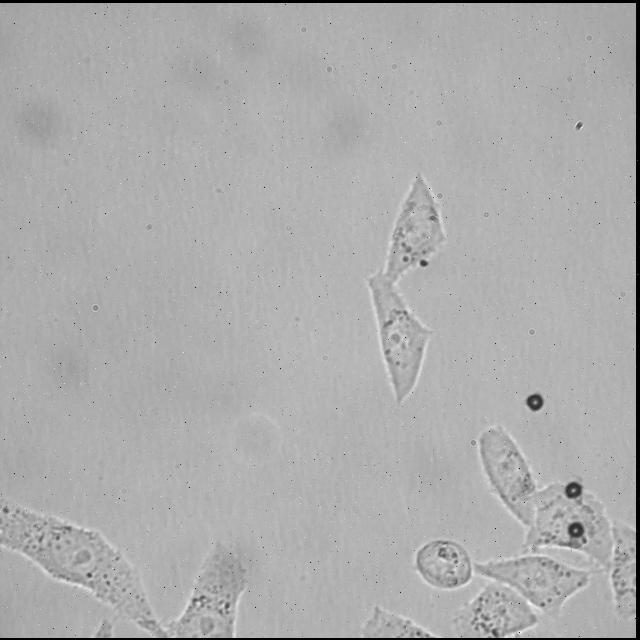microbeads: (562, 480, 580, 500), (563, 518, 583, 536), (524, 391, 542, 409)
